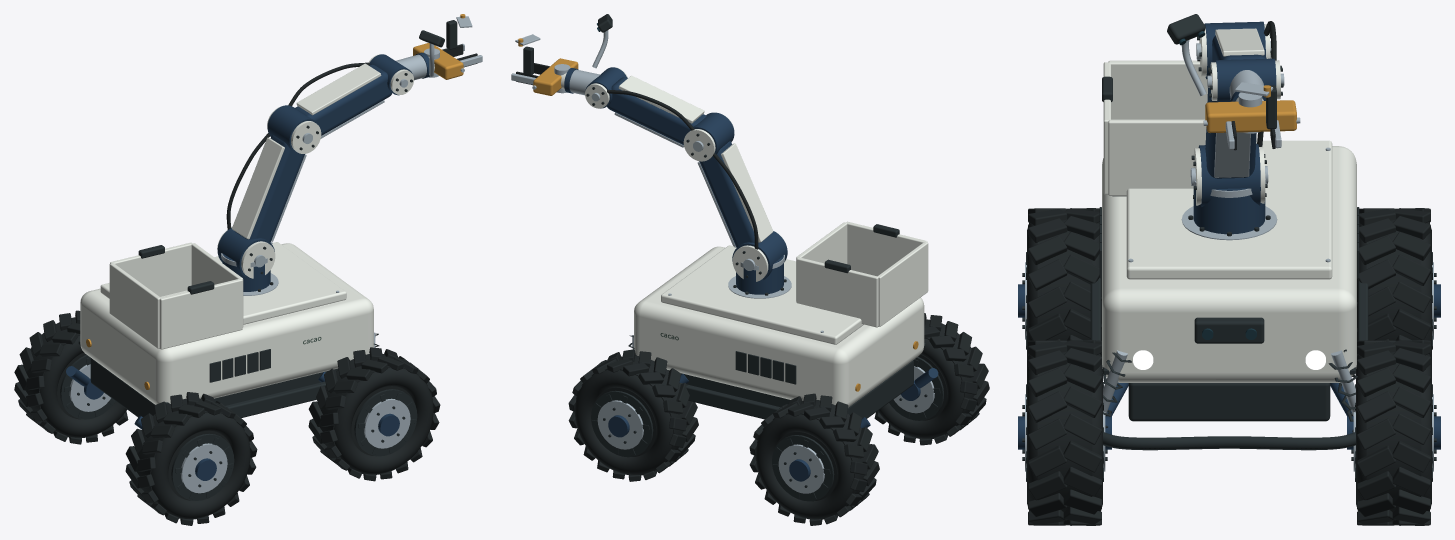
The model's file is field-rover-review.glb.
The picture shows the model from 3 angles, left to right: view 1: azimuth 30°, elevation 25°; view 2: azimuth 150°, elevation 25°; view 3: azimuth 270°, elevation 25°; orthographic projection. The views are drawn at different scales.
Visible parts, largest first — view 1: Carcasa principal, Hombro del neumático (×3), Piezas rígidas · Recipiente, Eslabón (×2), Tapa de servicio, Cubierta del eslabón (×2), Disco de aluminio (×3), Llanta (×3), Neumático (×3), Bastidor inferior, Motor articulación (×2), Protección lateral (+3 smaller); view 2: Carcasa principal, Hombro del neumático (×3), Piezas rígidas · Recipiente, Tapa de servicio, Eslabón (×2), Disco de aluminio (×3), Llanta (×3), Cubierta del eslabón (×2), Neumático (×3), Bastidor inferior, Motor articulación (×2), Tapa de articulación (×2) (+4 smaller); view 3: Taco todoterreno (×48), Carcasa principal, Tapa de servicio, Piezas rígidas · Recipiente, Bastidor inferior, Neumático (×4), Hombro del neumático (×6), Motor articulación (×3), Paragolpes (×2), Carcasa de giro, Actuador de pinza, Cámara de navegación (+8 smaller).
Part boxes in pixels (box(x1,y1,x2,y2)): Carcasa principal: box(80, 243, 373, 404); Hombro del neumático (×3): box(39, 335, 433, 518); Piezas rígidas · Recipiente: box(109, 242, 243, 349); Eslabón (×2): box(235, 64, 392, 242); Tapa de servicio: box(100, 242, 346, 324); Cubierta del eslabón (×2): box(232, 63, 381, 239); Disco de aluminio (×3): box(69, 364, 410, 493); Llanta (×3): box(60, 354, 417, 500); Neumático (×3): box(23, 317, 433, 519); Bastidor inferior: box(90, 358, 338, 417); Motor articulación (×2): box(217, 105, 320, 277); Protección lateral: box(225, 381, 325, 417); Carcasa principal: box(634, 246, 924, 407); Hombro del neumático (×3): box(575, 338, 964, 519); Piezas rígidas · Recipiente: box(796, 221, 928, 327); Tapa de servicio: box(661, 245, 863, 344); Eslabón (×2): box(607, 77, 769, 247); Disco de aluminio (×3): box(597, 366, 934, 493); Llanta (×3): box(591, 357, 943, 501); Cubierta del eslabón (×2): box(618, 75, 773, 242); Neumático (×3): box(574, 319, 979, 519); Bastidor inferior: box(668, 360, 913, 418); Motor articulación (×2): box(683, 112, 787, 279); Tapa de articulación (×2): box(683, 129, 768, 281); Taco todoterreno (×48): box(1028, 216, 1430, 516); Carcasa principal: box(1102, 146, 1356, 382); Tapa de servicio: box(1126, 140, 1332, 279); Piezas rígidas · Recipiente: box(1103, 60, 1256, 195); Bastidor inferior: box(1128, 383, 1330, 421); Neumático (×4): box(1037, 219, 1421, 512); Hombro del neumático (×6): box(1027, 222, 1431, 512); Motor articulación (×3): box(1198, 21, 1276, 206); Paragolpes (×2): box(1103, 432, 1355, 450); Carcasa de giro: box(1193, 187, 1265, 234); Actuador de pinza: box(1205, 100, 1296, 132); Cámara de navegación: box(1194, 317, 1264, 343).
Bounding box in the file's own units: 1.67 × 1.53 × 1.03.
Materials: 9 (1 with a texture image).
